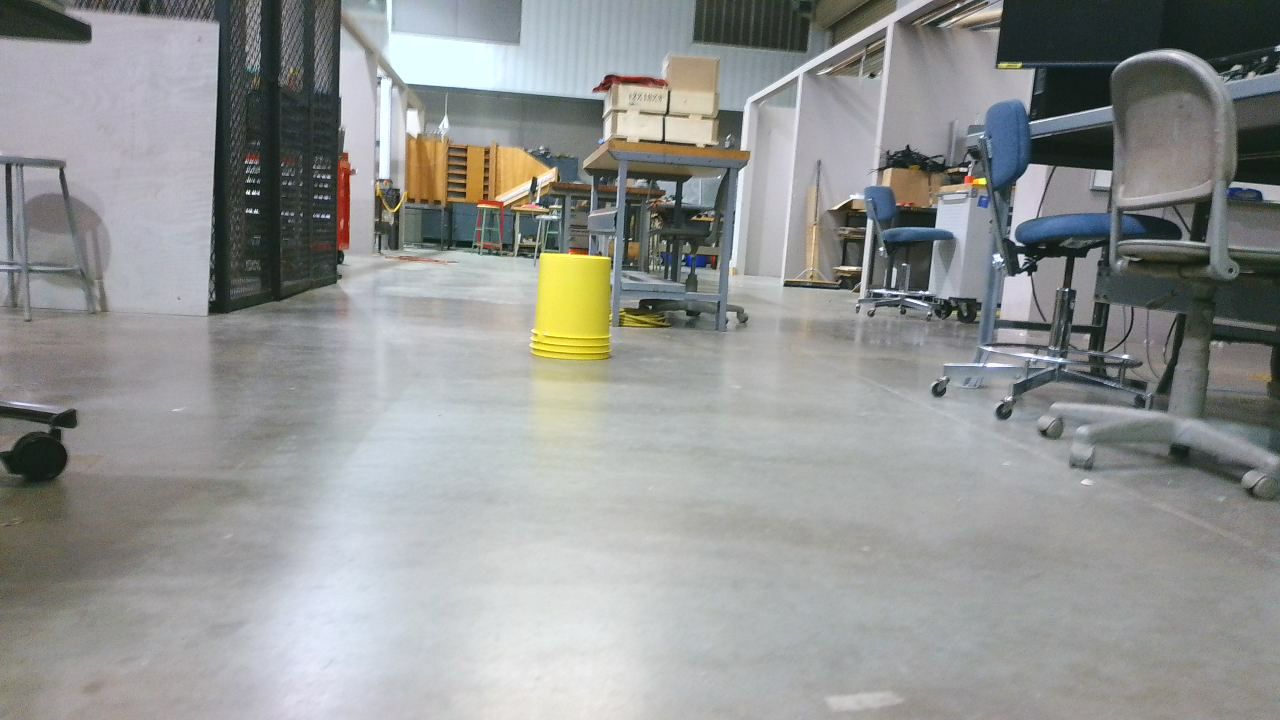yellow_bucket: (539, 252, 619, 368)
